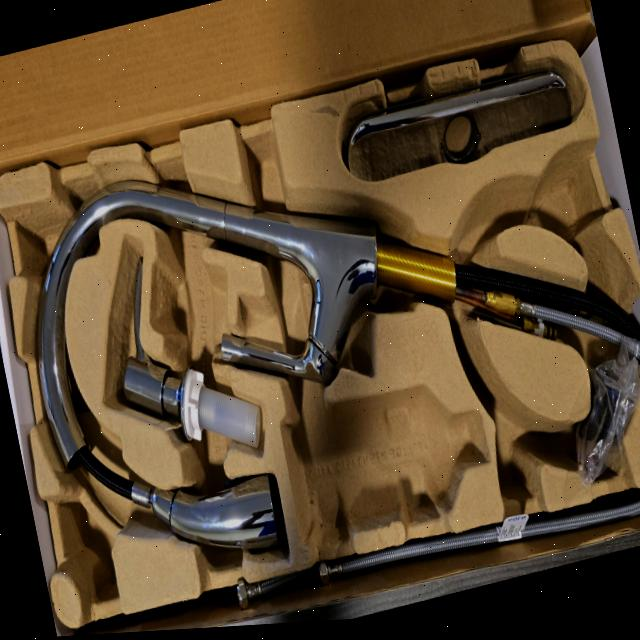1: (34, 179, 640, 551)
2: (121, 253, 262, 448)
3m: (281, 387, 492, 541)
4: (345, 69, 572, 181)
5m: (532, 148, 592, 234)
6m: (481, 387, 564, 501)
7: (574, 349, 639, 491)
